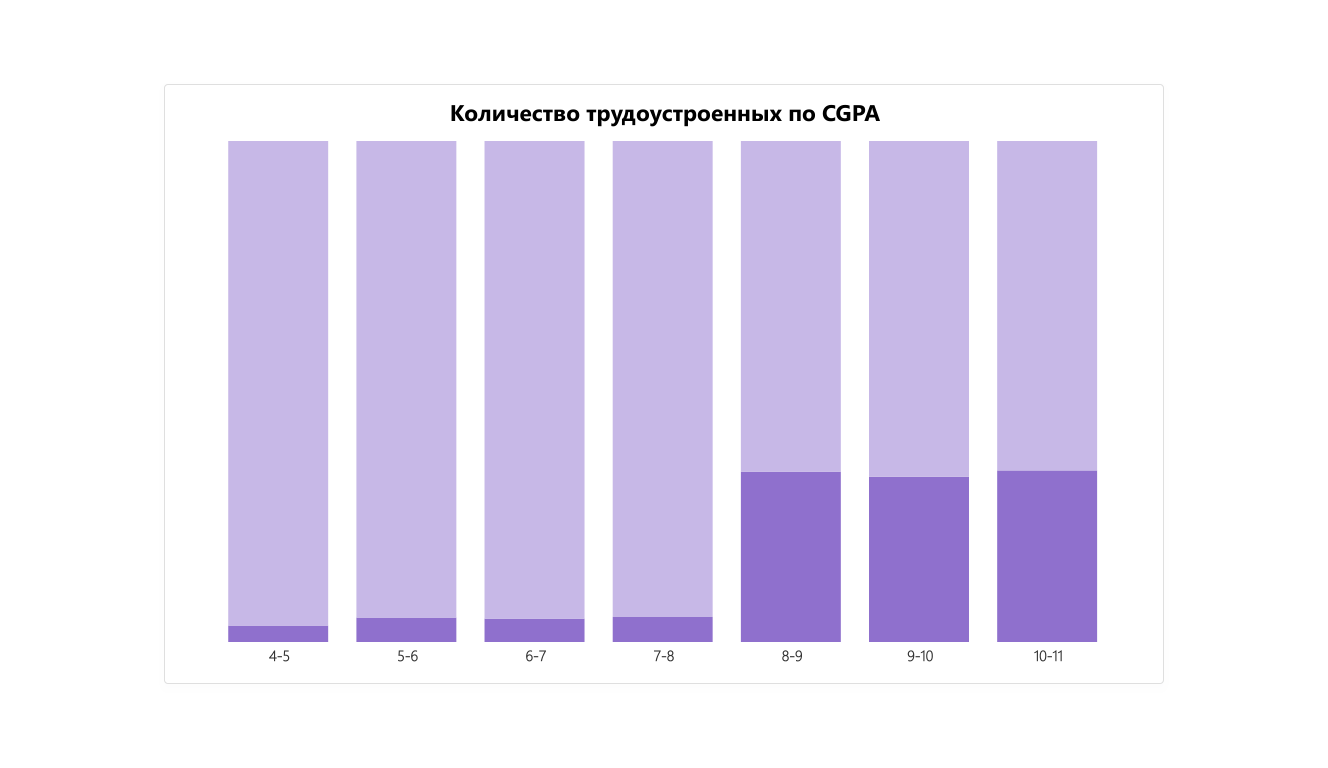

What the dashboard file says about the page in this screenshot:
{"tool":"powerbi","page":{"name":"CGPA","canvas":[1280,720],"ordinal":2},"visuals":[{"type":"hundredPercentStackedColumnChart","title":"Количество трудоустроенных по CGPA","fields":{"Category":["CGPA.total_GPA"],"Y":["Sum(CGPA.Трудоустроенные)","Sum(CGPA.Нетрудоустроенные)"]},"box":[139.7,60,1000.3,600],"z":0}]}

Visuals, with their boxes in screenshot pixels (x1, y1, x2, y2), scaled from the page's 1280x720 canvas onto the 1328x768 screenshot:
"Количество трудоустроенных по CGPA" hundredPercentStackedColumnChart: <region>145, 64, 1183, 704</region>
